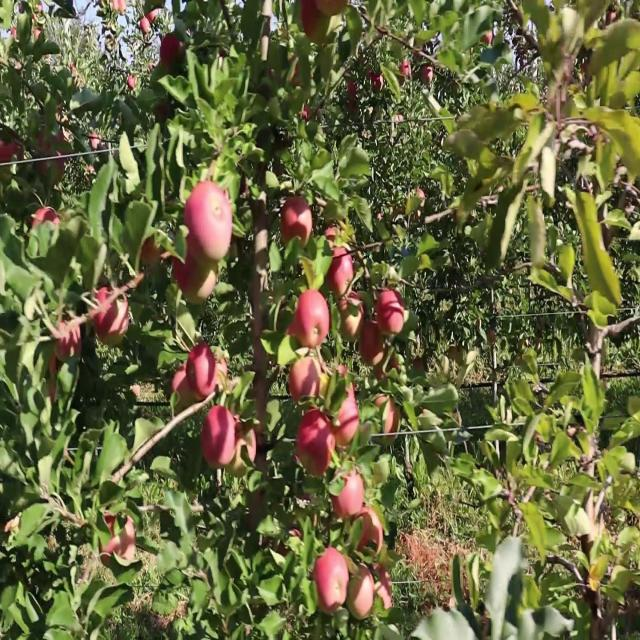apple: (188, 184, 233, 263), (596, 113, 640, 176), (312, 547, 350, 617), (296, 412, 335, 480), (176, 248, 218, 308), (292, 291, 332, 352), (200, 405, 235, 469), (300, 0, 347, 46), (100, 511, 136, 567), (332, 383, 360, 450), (188, 341, 217, 402), (228, 419, 256, 482), (280, 199, 313, 249), (288, 355, 321, 405), (348, 561, 375, 622), (96, 511, 124, 567), (332, 476, 365, 523), (352, 511, 384, 558), (376, 291, 406, 340), (328, 248, 356, 299), (300, 0, 330, 46), (360, 319, 385, 368), (109, 291, 130, 347), (340, 298, 365, 343), (376, 398, 400, 444), (372, 561, 393, 613), (92, 291, 114, 340), (172, 369, 197, 411), (52, 319, 73, 364), (252, 376, 271, 423), (376, 348, 400, 384), (140, 234, 165, 268), (160, 35, 183, 71), (68, 312, 85, 359), (252, 341, 274, 375), (212, 355, 229, 395), (32, 206, 59, 231), (68, 319, 84, 359), (324, 0, 347, 23), (288, 56, 303, 89), (324, 0, 348, 20), (48, 355, 63, 382), (420, 63, 436, 87), (368, 71, 384, 92), (140, 14, 155, 36), (48, 376, 59, 405), (0, 142, 13, 164), (348, 78, 359, 103), (400, 63, 412, 84), (12, 142, 24, 162), (144, 14, 156, 28)
